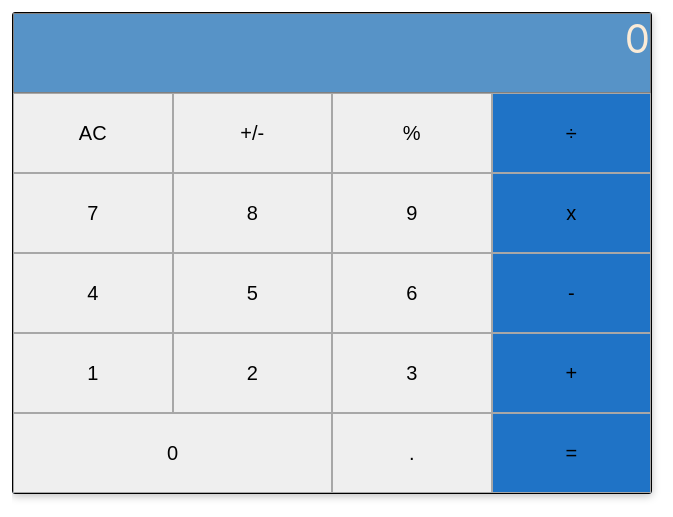
Scenario: Testing Calculator component with snapshot › Testing to see if the Calculator component can accurately add two or more numbers together.
This screenshot has width=673, height=517.
Click the button "1": (93, 373) [13, 333, 172, 413]
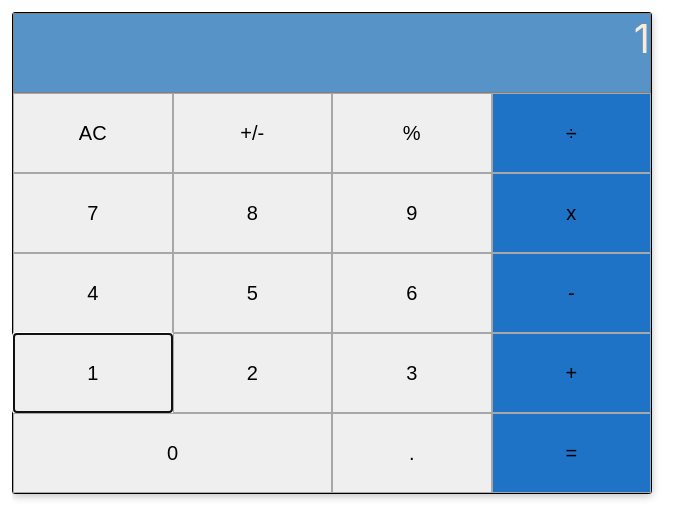
Click the button "+": (571, 373) [492, 333, 651, 413]
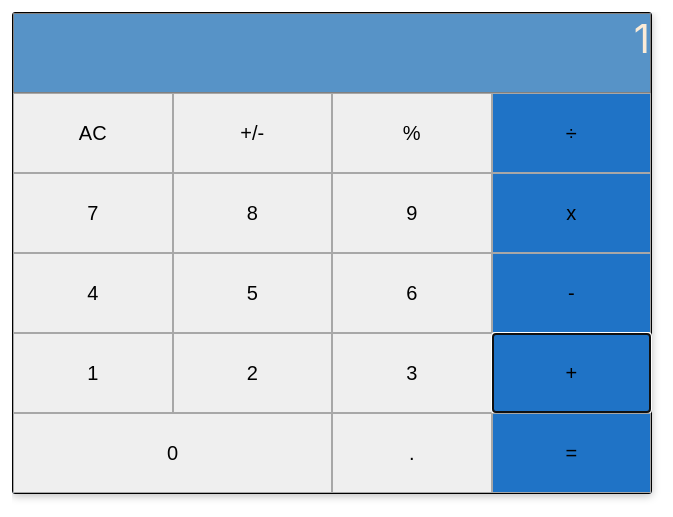
Click the button "2": (252, 373) [172, 333, 332, 413]
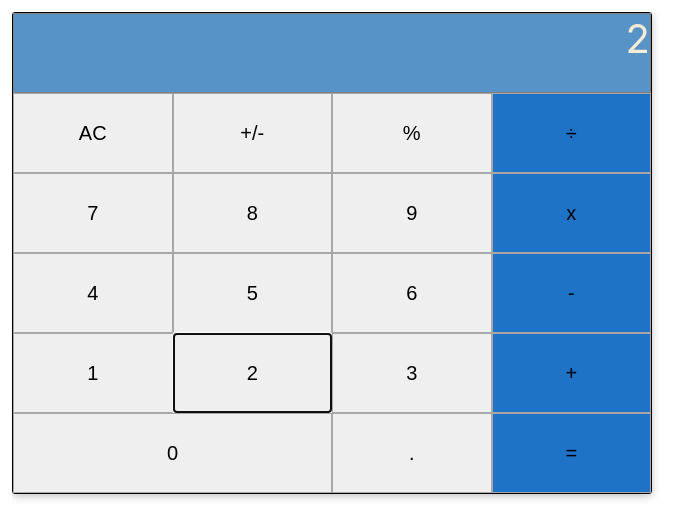
Click the button "=": (571, 453) [492, 413, 651, 493]
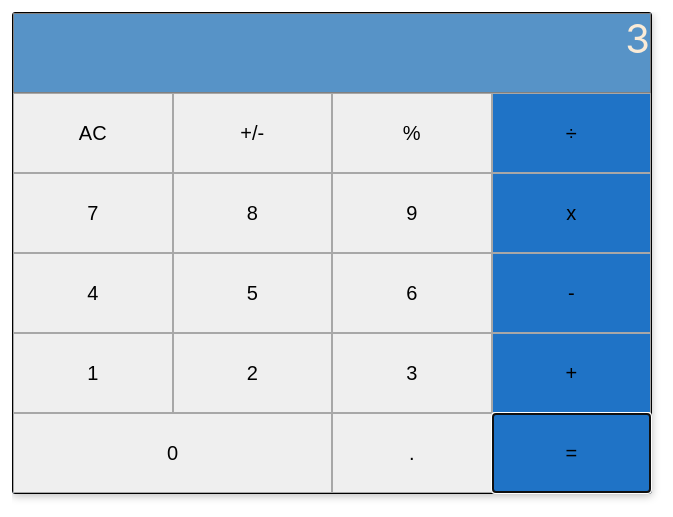
Check: the text with test id "total_value" reads "3", box [625, 14, 650, 63]
